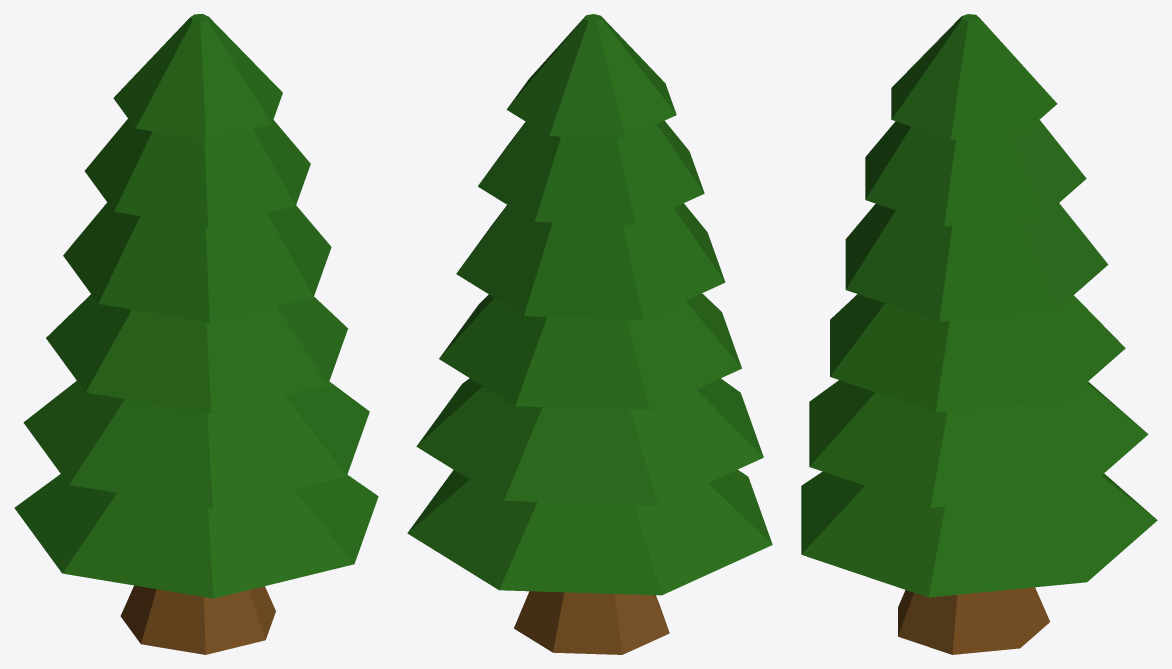
File: pine_tree.fbx
The picture shows the model from 3 angles, left to right: view 1: azimuth 30°, elevation 25°; view 2: azimuth 150°, elevation 25°; view 3: azimuth 270°, elevation 25°; orthographic projection.
Parts seen in each view (by area): view 1: Cylinder; view 2: Cylinder; view 3: Cylinder.
Boxes of the visible parts, x1,y1,x2,y2 form: Cylinder: (14, 14, 378, 654); Cylinder: (407, 14, 772, 654); Cylinder: (801, 14, 1157, 654).
Size of the model in its own units: 558 by 1018 by 544.
